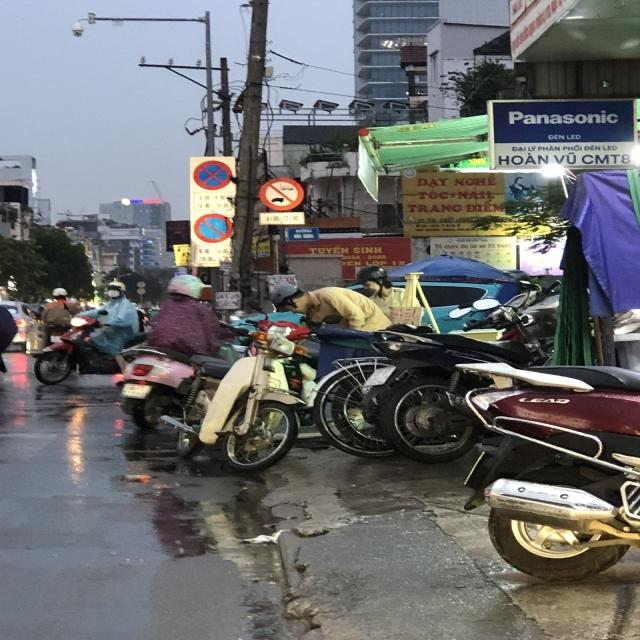Bien bao cam dung xe va do xe: (192, 157, 233, 191)
Bien bao cam xe oto khach va xe oto tai: (254, 175, 307, 211)
